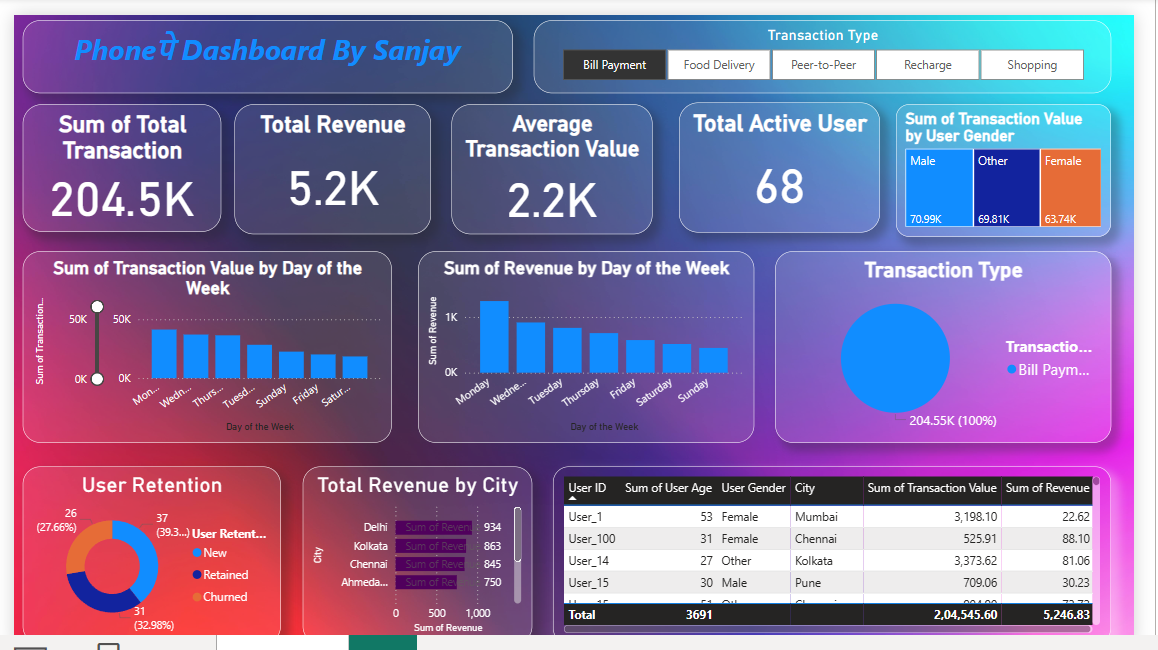

What the dashboard file says about the page in this screenshot:
{"tool":"powerbi","page":{"name":"Page 1","canvas":[1280,720],"ordinal":0},"visuals":[{"type":"textbox","box":[10,6.7,560,83.3],"z":0},{"type":"card","title":"Sum of Total Transaction","fields":{"Values":["Sum(UPI_Sample_Datasetc.Transaction Value)"]},"box":[10.8,102.7,227,145.9],"z":1000},{"type":"card","title":"Total Revenue","fields":{"Values":["Sum(UPI_Sample_Datasetc.Revenue)"]},"box":[251.4,102.7,224.3,148.6],"z":2000},{"type":"card","title":"Average Transaction Value","fields":{"Values":["Avg(UPI_Sample_Datasetc.Transaction Value)"]},"box":[500,102.7,229.7,148.6],"z":3000},{"type":"card","title":"Total Active User","fields":{"Values":["Count(UPI_Sample_Datasetc.User ID)"]},"box":[759.5,100,229.7,148.6],"z":4000},{"type":"treemap","fields":{"Group":["UPI_Sample_Datasetc.User Gender"],"Values":["Sum(UPI_Sample_Datasetc.Transaction Value)"]},"box":[1007.6,102.7,258.8,152.1],"z":5000},{"type":"lineStackedColumnComboChart","fields":{"Category":["UPI_Sample_Datasetc.Day of the Week"],"Y":["Sum(UPI_Sample_Datasetc.Transaction Value)"]},"box":[10.8,270.3,421.6,218.9],"z":6000},{"type":"lineStackedColumnComboChart","fields":{"Category":["UPI_Sample_Datasetc.Day of the Week"],"Y":["Sum(UPI_Sample_Datasetc.Revenue)"]},"box":[462.2,270.3,383.8,218.9],"z":7000},{"type":"pieChart","title":" Transaction Type","fields":{"Category":["UPI_Sample_Datasetc.Transaction Type"],"Y":["Sum(UPI_Sample_Datasetc.Transaction Value)"]},"box":[869.3,270.7,397.1,219.3],"z":8000},{"type":"donutChart","title":" User Retention","fields":{"Category":["UPI_Sample_Datasetc.User Retention"],"Y":["CountNonNull(UPI_Sample_Datasetc.User ID)"]},"box":[10.8,516.2,294.6,202.7],"z":9000},{"type":"barChart","title":"Total Revenue by City","fields":{"Category":["UPI_Sample_Datasetc.City"],"Y":["Sum(UPI_Sample_Datasetc.Revenue)"]},"box":[329.7,516.2,262.2,202.7],"z":10000},{"type":"tableEx","fields":{"Values":["UPI_Sample_Datasetc.User ID","Sum(UPI_Sample_Datasetc.User Age)","UPI_Sample_Datasetc.User Gender","UPI_Sample_Datasetc.City","Sum(UPI_Sample_Datasetc.Transaction Value)","Sum(UPI_Sample_Datasetc.Revenue)"]},"box":[614.5,515.7,652,203.5],"z":11000},{"type":"slicer","title":"Transaction  Type","fields":{"Values":["UPI_Sample_Datasetc.Transaction Type"]},"box":[592.7,5.9,673.7,85],"z":12000}]}

Visuals, with their boxes in screenshot pixels (x1, y1, x2, y2), scaled from the page's 1280x720 canvas onto the 1158x650 screenshot:
textbox: {"left": 9, "top": 6, "right": 516, "bottom": 81}
"Sum of Total Transaction" card: {"left": 10, "top": 93, "right": 215, "bottom": 224}
"Total Revenue" card: {"left": 227, "top": 93, "right": 430, "bottom": 227}
"Average Transaction Value" card: {"left": 452, "top": 93, "right": 660, "bottom": 227}
"Total Active User" card: {"left": 687, "top": 90, "right": 895, "bottom": 224}
treemap - UPI_Sample_Datasetc.User Gender x Sum(UPI_Sample_Datasetc.Transaction Value): {"left": 912, "top": 93, "right": 1146, "bottom": 230}
lineStackedColumnComboChart - UPI_Sample_Datasetc.Day of the Week x Sum(UPI_Sample_Datasetc.Transaction Value): {"left": 10, "top": 244, "right": 391, "bottom": 442}
lineStackedColumnComboChart - UPI_Sample_Datasetc.Day of the Week x Sum(UPI_Sample_Datasetc.Revenue): {"left": 418, "top": 244, "right": 765, "bottom": 442}
" Transaction Type" pieChart: {"left": 786, "top": 244, "right": 1146, "bottom": 442}
" User Retention" donutChart: {"left": 10, "top": 466, "right": 276, "bottom": 649}
"Total Revenue by City" barChart: {"left": 298, "top": 466, "right": 535, "bottom": 649}
tableEx - UPI_Sample_Datasetc.User ID x Sum(UPI_Sample_Datasetc.User Age): {"left": 556, "top": 466, "right": 1146, "bottom": 649}
"Transaction  Type" slicer: {"left": 536, "top": 5, "right": 1146, "bottom": 82}
